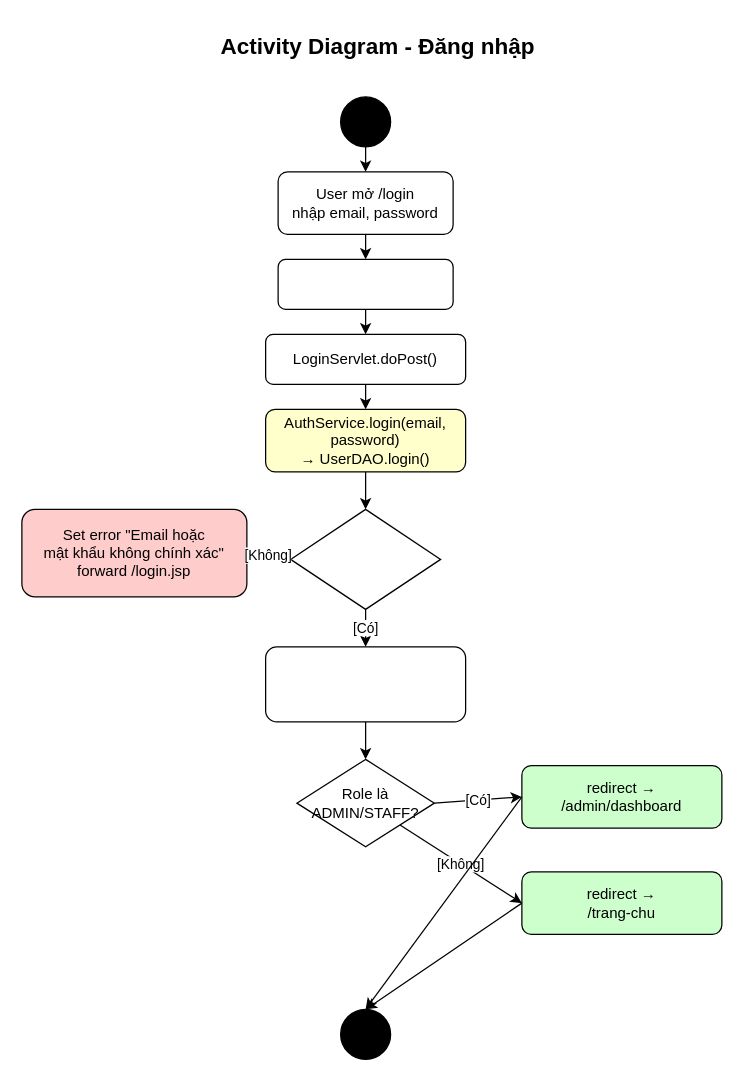
This 744x1081 diagram has some shape labels left out. Here are the shapes that lost their labels. From the top down, the centre of each, then its label:
At point 365,283: "POST /login".
At point 365,558: "Tìm thấy user & status=ACTIVE?".
At point 365,684: "session.setAttribute(LOGIN_USER, user) CartService.mergeOnLogin(session, user)".
